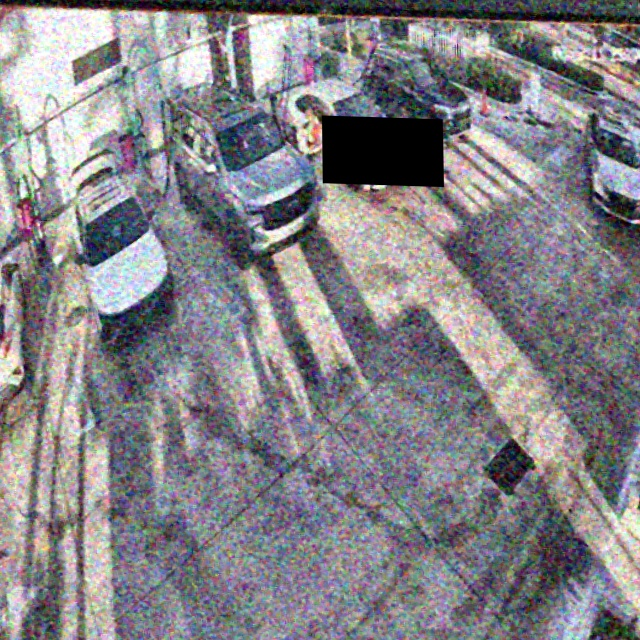Car: (170, 79, 319, 271), (70, 149, 174, 348), (269, 76, 413, 191)
